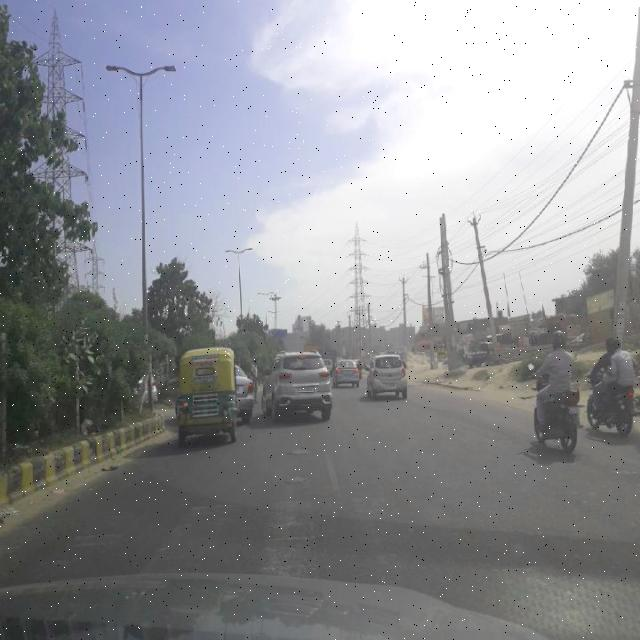D20: (6, 481, 616, 566)
D43: (20, 468, 631, 576)
D44: (318, 431, 342, 515)
